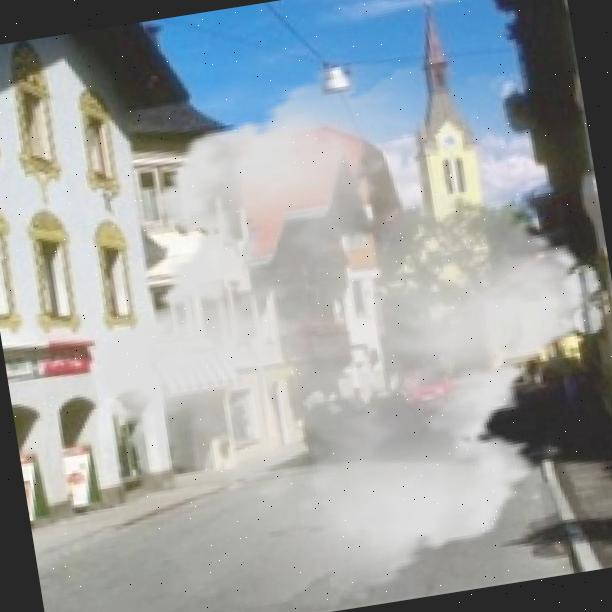smoke: (36, 31, 612, 612)
